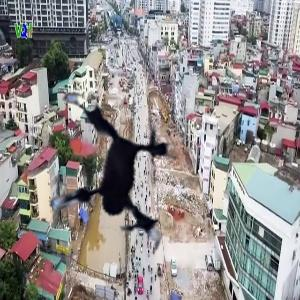drone: (1, 76, 206, 281)
